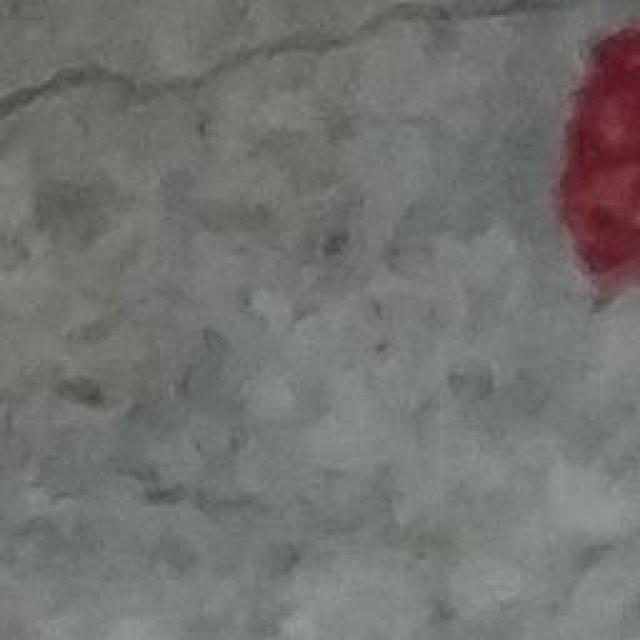Transverse: (0, 0, 640, 105)
